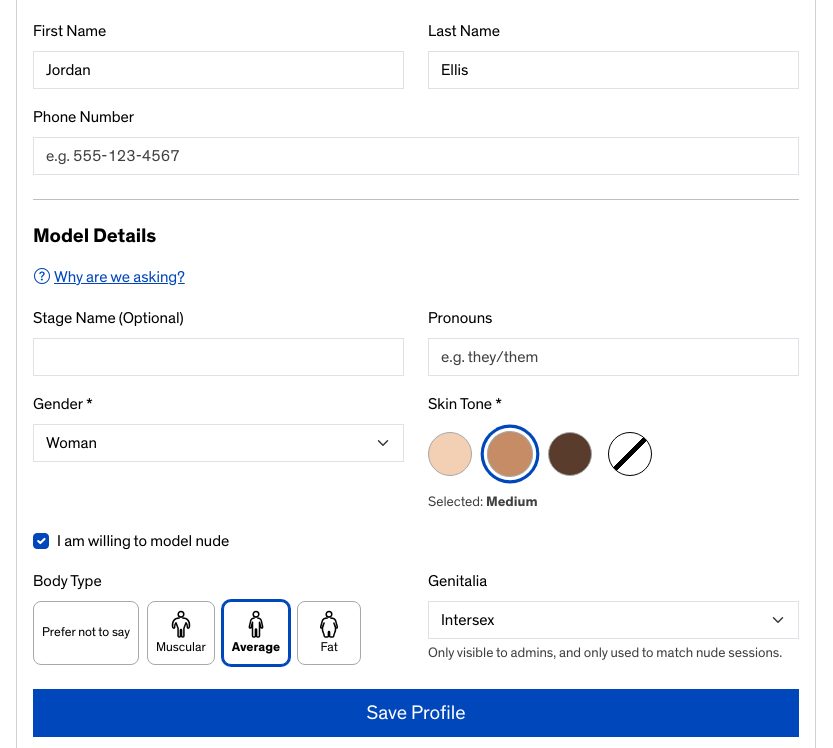
Test: Profile › saves the profile and updates the signed-in user
This screenshot has width=833, height=748.
(page scrolled)
Click the 5th radio button labelled "Fat": (329, 633) x1=297 y1=601 x2=361 y2=665
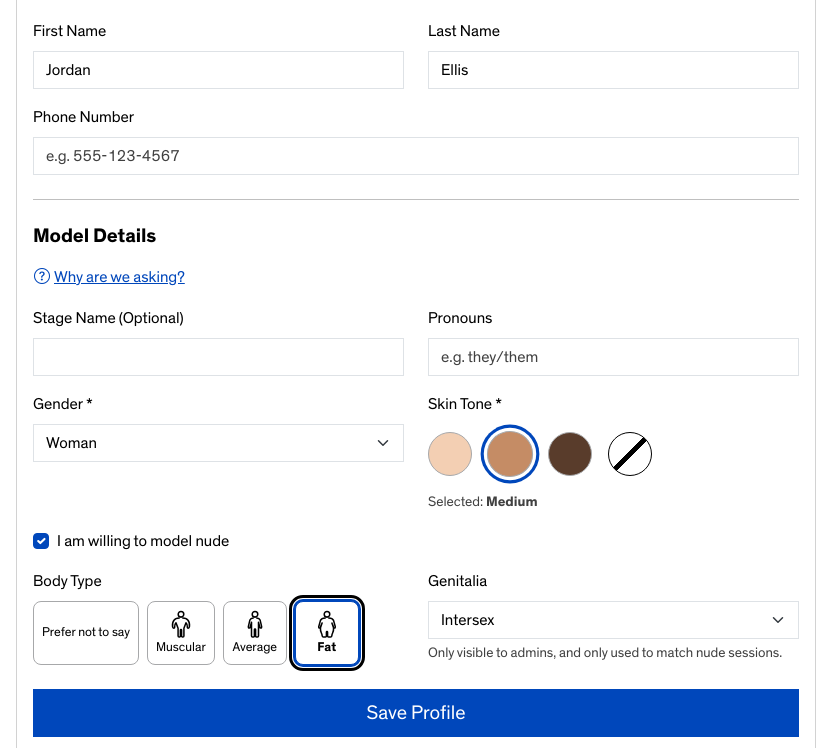
Click the button "Save Profile": (416, 713) x1=33 y1=689 x2=799 y2=737
(page scrolled)
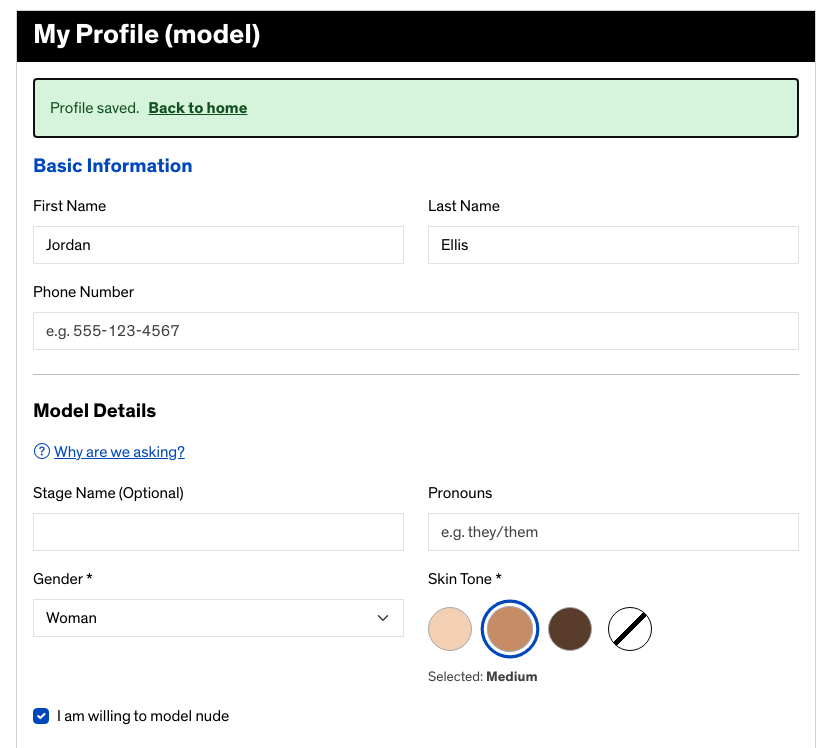
Now the message shows "Profile saved.", box x1=50 y1=100 x2=139 y2=116
Now the button "Back to home" is shown, box x1=147 y1=95 x2=248 y2=121
